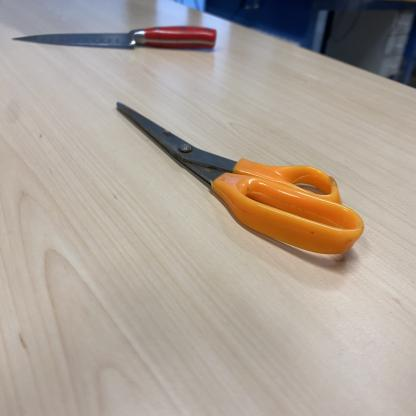scissors: (114, 100, 367, 256), (10, 25, 219, 53)
